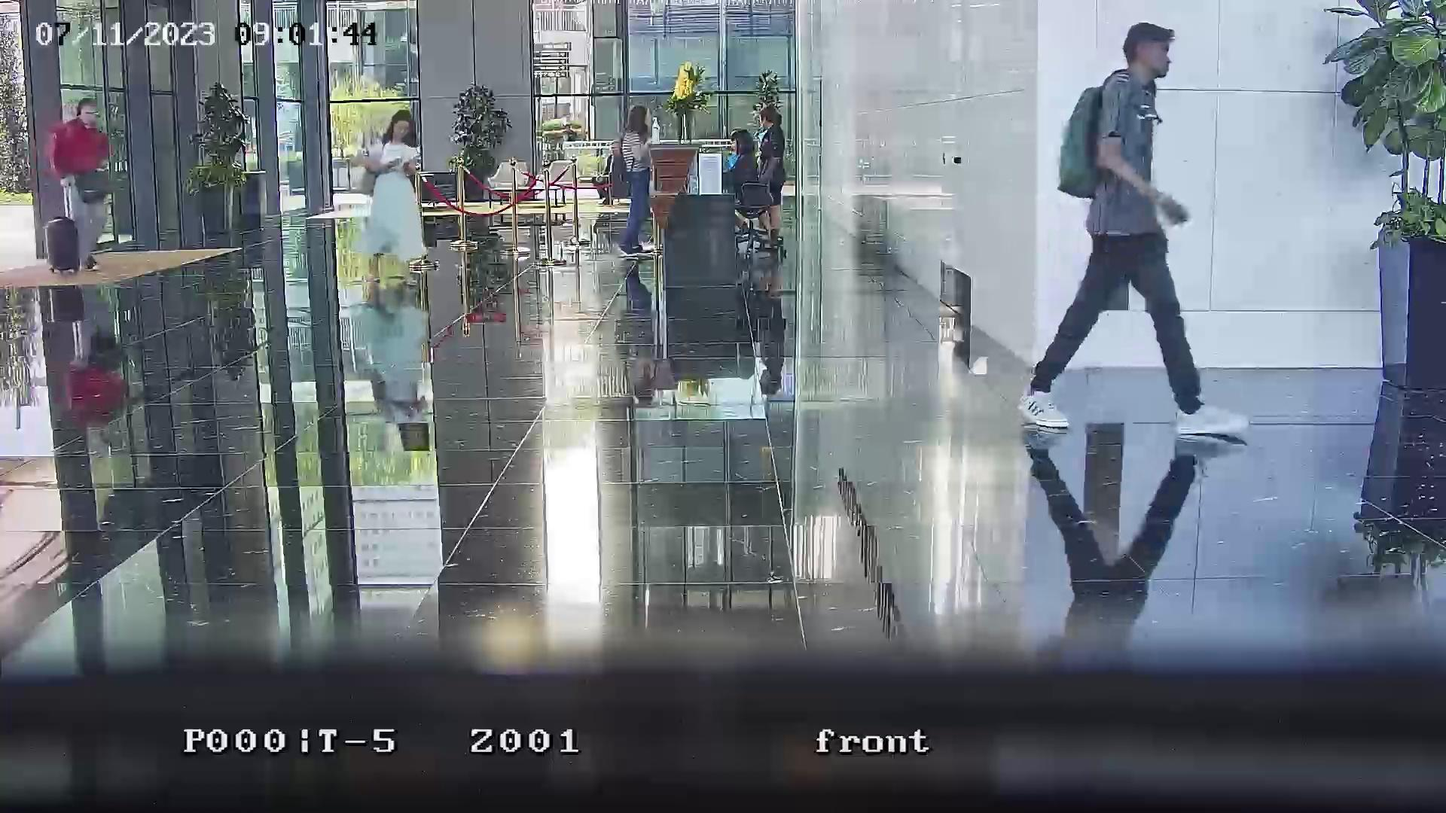person: (1017, 21, 1207, 429), (50, 99, 112, 271), (355, 113, 426, 262), (610, 105, 657, 257), (755, 103, 787, 253), (728, 129, 769, 219), (755, 102, 787, 208)
